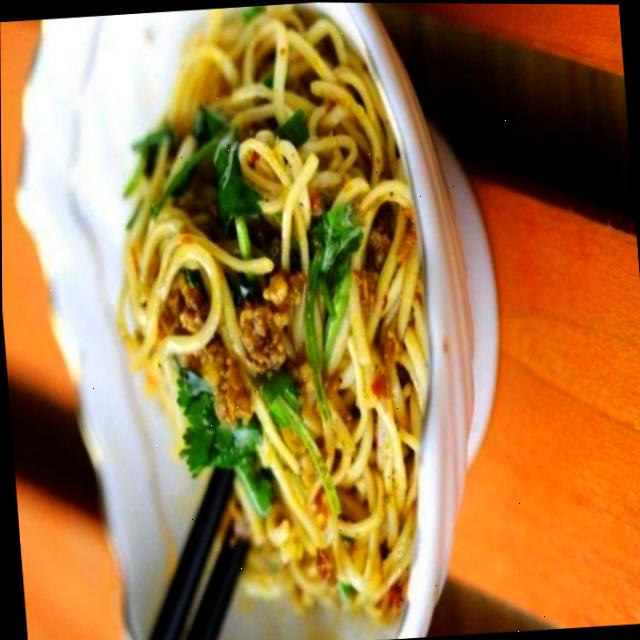面条主食: (0, 0, 516, 640)
